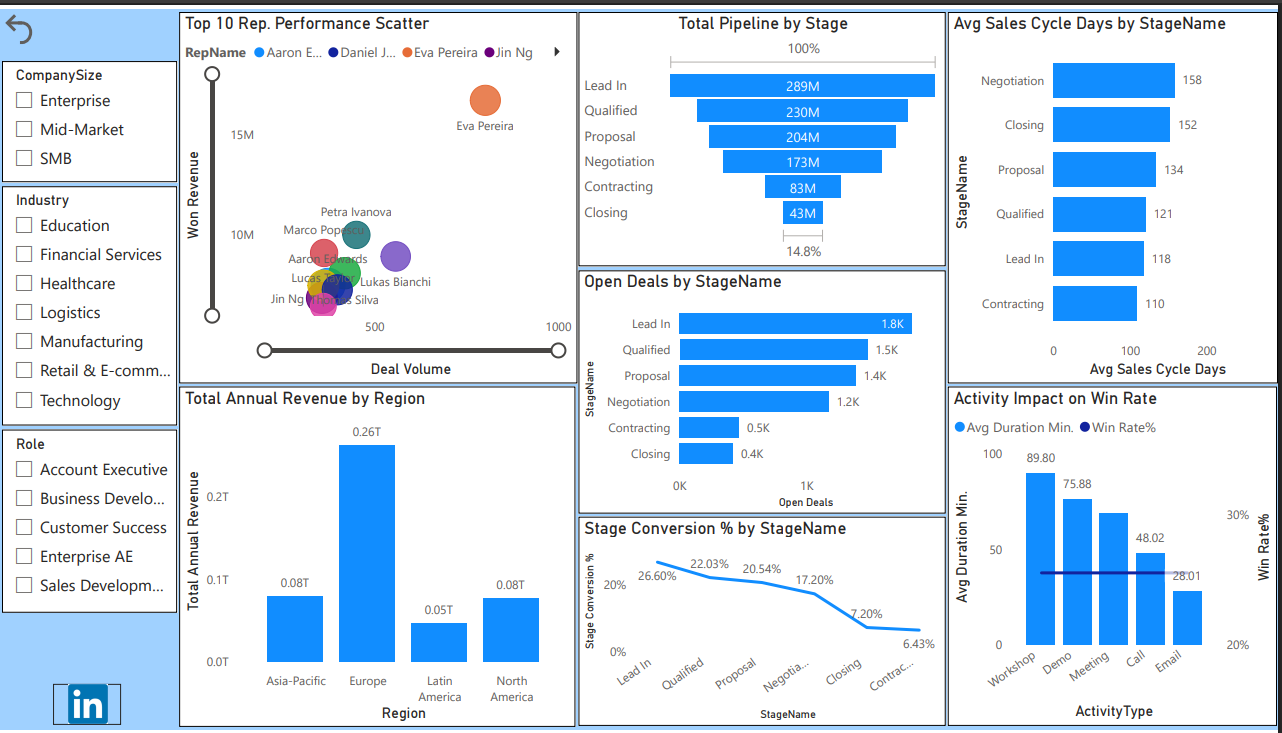

Layout of this report page (visuals, bound fields, positions):
{"tool":"powerbi","page":{"name":"Sales & Pipeline","canvas":[1280,720],"ordinal":1},"visuals":[{"type":"actionButton","box":[0,0,100,40],"z":0},{"type":"slicer","fields":{"Values":["DimCompany.CompanySize"]},"box":[3.2,52.5,175,120.9],"z":1000},{"type":"slicer","fields":{"Values":["DimSalesRep.Role"]},"box":[3.2,419.9,175,182.9],"z":2000},{"type":"slicer","fields":{"Values":["DimCompany.Industry"]},"box":[3.2,176.6,175,238.6],"z":3000},{"type":"clusteredColumnChart","fields":{"Category":["DimCompany.Region Hierarchy.Region","DimCompany.Industry"],"Y":["Sum(DimCompany.AnnualRevenueEUR)"]},"box":[179.7,377,396.1,340],"z":4000},{"type":"image","box":[54.1,674.4,68.4,41.4],"z":5000},{"type":"scatterChart","title":"Top 10 Rep. Performance Scatter","fields":{"X":["FactDeals.Deal Volume"],"Y":["FactDeals.Won Revenue"],"Size":["FactDeals.Win Rate%"],"Series":["DimSalesRep.RepName"]},"box":[179.7,3.2,397.7,370.6],"z":6000},{"type":"funnel","title":"Total Pipeline by Stage","fields":{"Category":["FactDeals.StageName"],"Y":["FactDeals.Total Pipeline Value"]},"box":[579,3.2,367.4,254.5],"z":7000},{"type":"clusteredBarChart","fields":{"Category":["FactDeals.StageName"],"Y":["FactDeals.Avg Sales Cycle Days"]},"box":[948,3.2,330.8,370.6],"z":8000},{"type":"lineChart","fields":{"Y":["FactDeals.Stage % of Total"],"Category":["FactDeals.StageName"]},"box":[579,507.4,367.4,209],"z":9000},{"type":"lineClusteredColumnComboChart","title":"Activity Impact on Win Rate","fields":{"Category":["FactActivities.ActivityType"],"Y":["Avg(FactActivities.DurationMinutes)"],"Y2":["FactDeals.Win Rate%"]},"box":[948,377,329.3,338.8],"z":10000},{"type":"barChart","fields":{"Category":["FactDeals.StageName"],"Y":["FactDeals.Open Deals"]},"box":[579,260.9,367.4,243.4],"z":11000}]}

Visuals, with their boxes in screenshot pixels (x1, y1, x2, y2), scaled from the page's 1280x720 canvas onto the 1282x733 screenshot:
actionButton: 0,0,100,41
slicer - DimCompany.CompanySize: 3,53,178,177
slicer - DimSalesRep.Role: 3,427,178,614
slicer - DimCompany.Industry: 3,180,178,423
clusteredColumnChart - DimCompany.Region Hierarchy.Region x DimCompany.Industry: 180,384,577,730
image: 54,687,123,729
"Top 10 Rep. Performance Scatter" scatterChart: 180,3,578,381
"Total Pipeline by Stage" funnel: 580,3,948,262
clusteredBarChart - FactDeals.StageName x FactDeals.Avg Sales Cycle Days: 949,3,1281,381
lineChart - FactDeals.Stage % of Total x FactDeals.StageName: 580,517,948,729
"Activity Impact on Win Rate" lineClusteredColumnComboChart: 949,384,1279,729
barChart - FactDeals.StageName x FactDeals.Open Deals: 580,266,948,513
